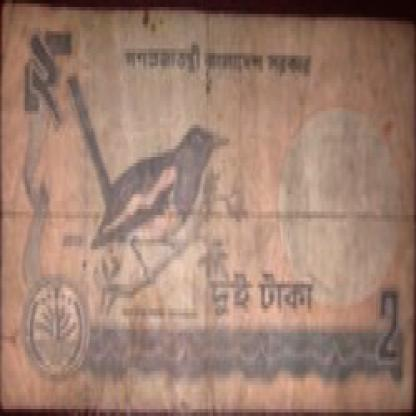two taka: (20, 24, 77, 135), (366, 270, 413, 371)
